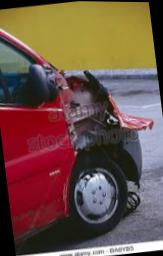Fender: (55, 67, 157, 155)
